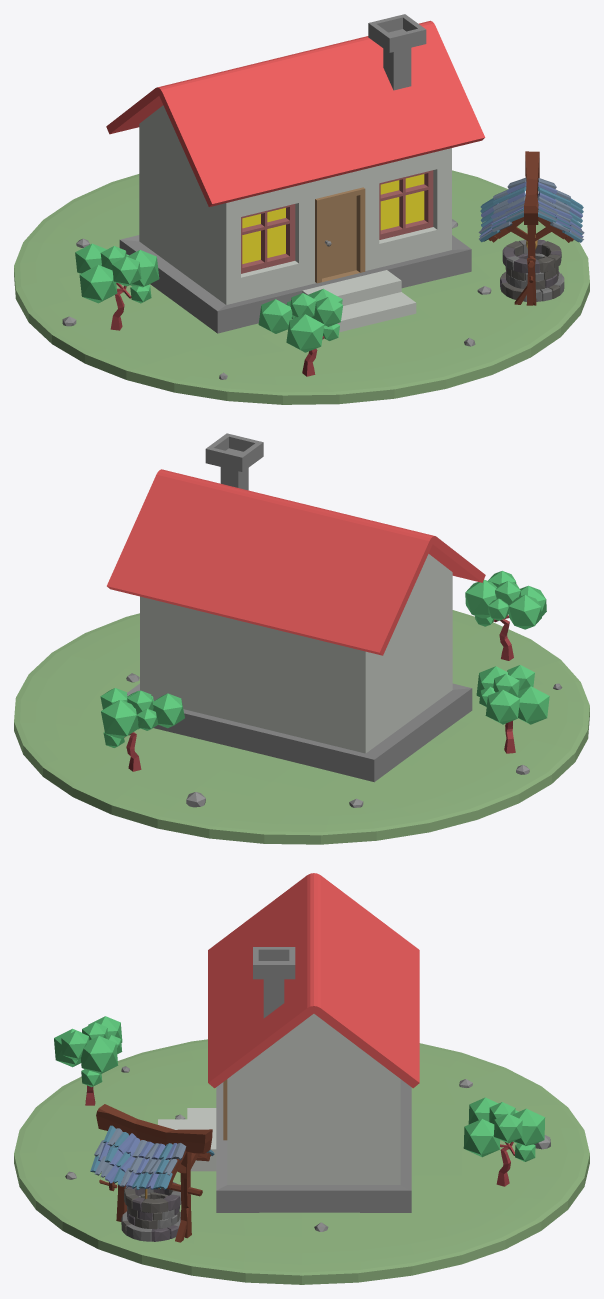
Rendered from lowpoly_house.glb.
3 views of the same model, one above another, from view 1: azimuth 30°, elevation 25°; view 2: azimuth 150°, elevation 25°; view 3: azimuth 270°, elevation 25° (orthographic).
Visible parts, largest first — view 1: House_joined; view 2: House_joined; view 3: House_joined.
Boxes of the visible parts, left/top/right/bottom form: House_joined: left=14, top=14, right=589, bottom=404; House_joined: left=14, top=433, right=589, bottom=844; House_joined: left=14, top=873, right=589, bottom=1284.
Size of the model in its own units: 13.28 by 6.36 by 13.28.
